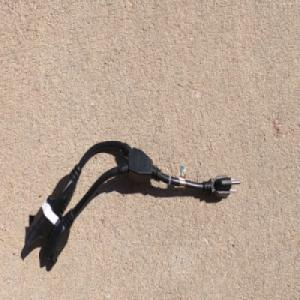Wire: (25, 139, 242, 269)
